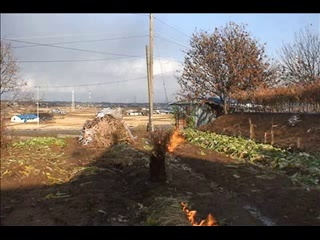fire: (180, 201, 216, 226), (166, 127, 185, 154)
